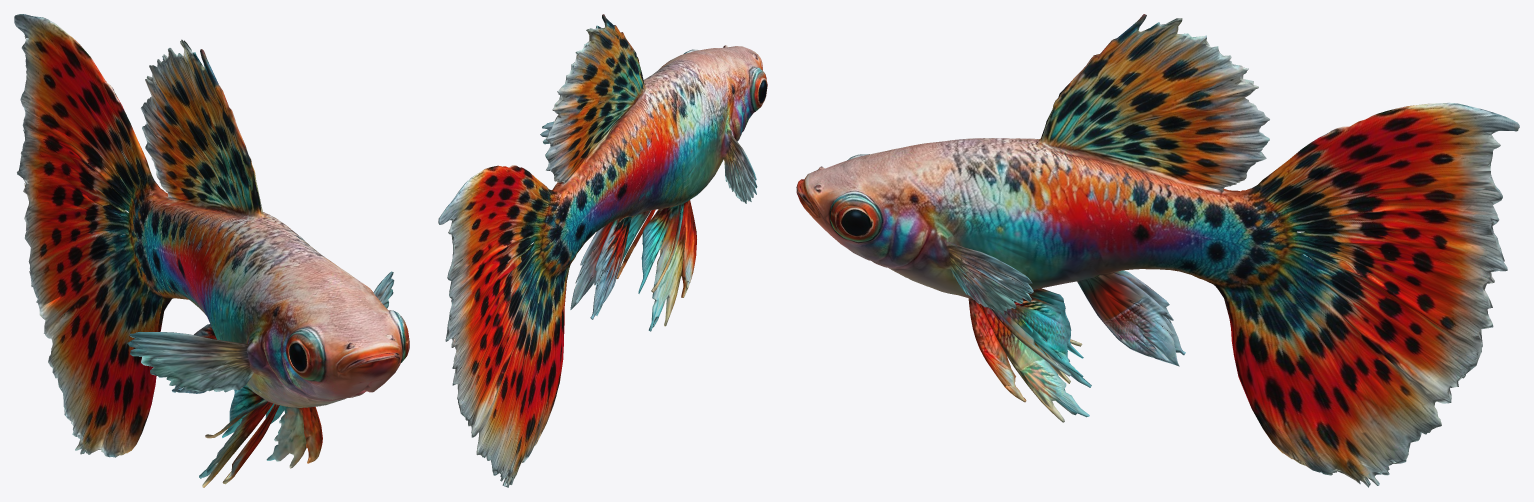
File: guppy-6.glb
The picture shows the model from 3 angles, left to right: view 1: azimuth 30°, elevation 25°; view 2: azimuth 150°, elevation 25°; view 3: azimuth 270°, elevation 25°; orthographic projection. The views are drawn at different scales.
Parts seen in each view (by area): view 1: Body; view 2: Body; view 3: Body.
Part boxes in pixels (x1,y1,x2,y2): Body: (14, 14, 409, 487); Body: (438, 14, 767, 487); Body: (796, 14, 1519, 487).
Bounding box in the file's own units: 0.2339 × 0.4107 × 0.5694.
Materials: 1 (1 with a texture image).
